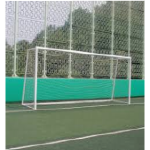goals: (20, 45, 136, 112)
